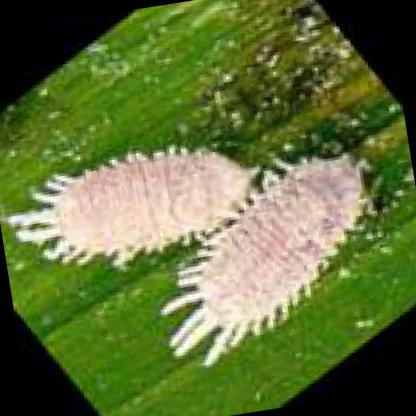mealy bug: (162, 153, 372, 370), (9, 152, 255, 256)
